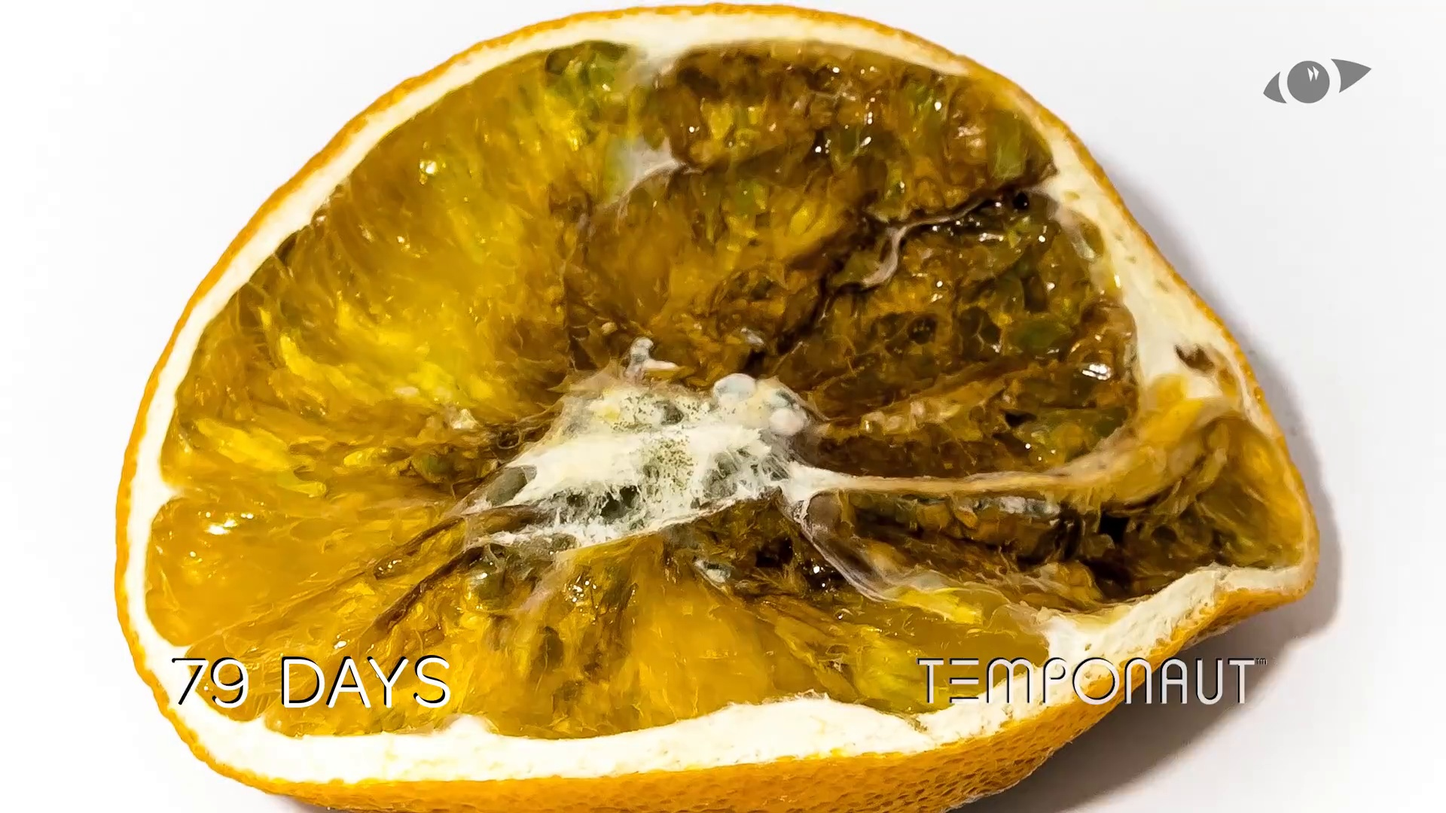orange_rotten: (114, 6, 1323, 801)
